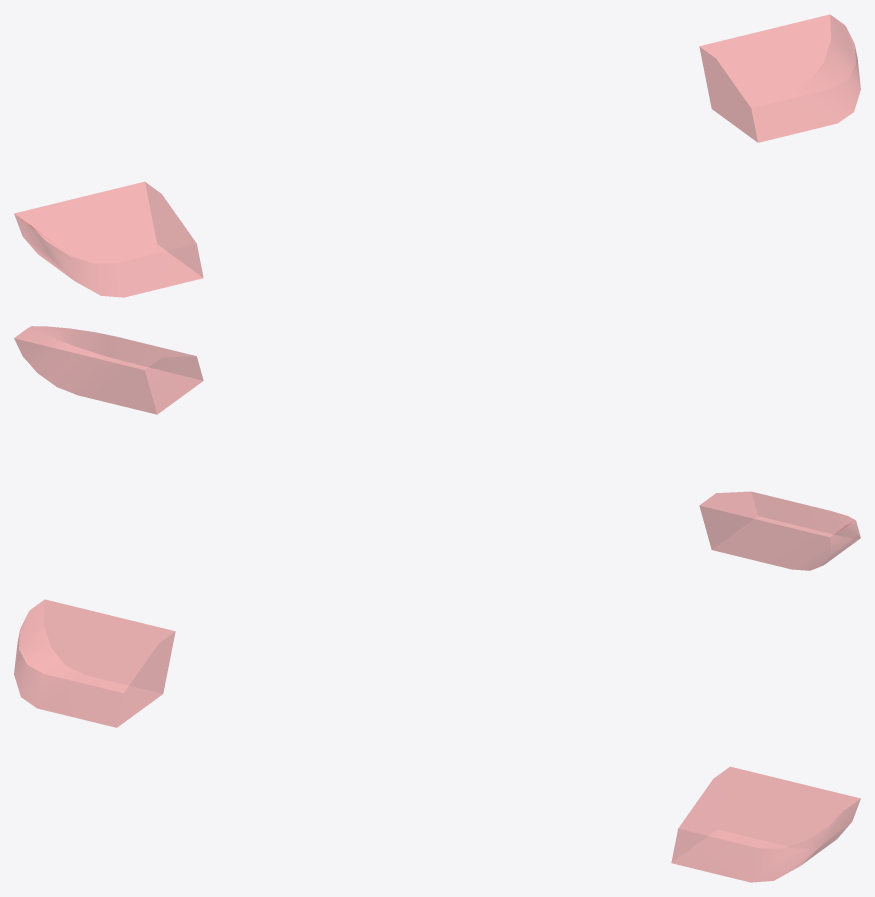
The model's file is acc_eyeline_red.glb.
The picture shows the model from 3 angles, top to bottom: view 1: azimuth 30°, elevation 25°; view 2: azimuth 150°, elevation 25°; view 3: azimuth 330°, elevation 25°; orthographic projection.
Parts seen in each view (by area): view 1: acc_eyeline_red_mesh; view 2: acc_eyeline_red_mesh; view 3: acc_eyeline_red_mesh.
Boxes of the visible parts, bbox=[...] form: acc_eyeline_red_mesh: bbox=[14, 14, 860, 297]; acc_eyeline_red_mesh: bbox=[14, 326, 860, 570]; acc_eyeline_red_mesh: bbox=[14, 599, 860, 882].
Size of the model in its own units: 1.78 by 0.1115 by 0.2217.
